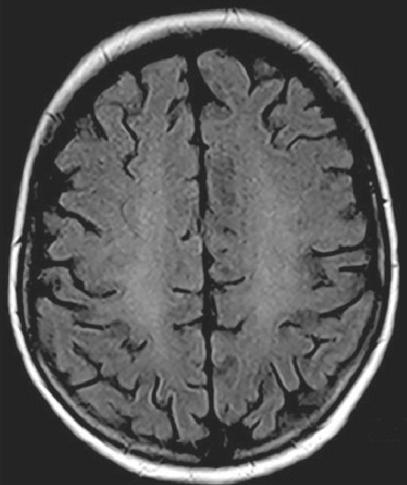Normal_Brain: (1, 1, 407, 485)
